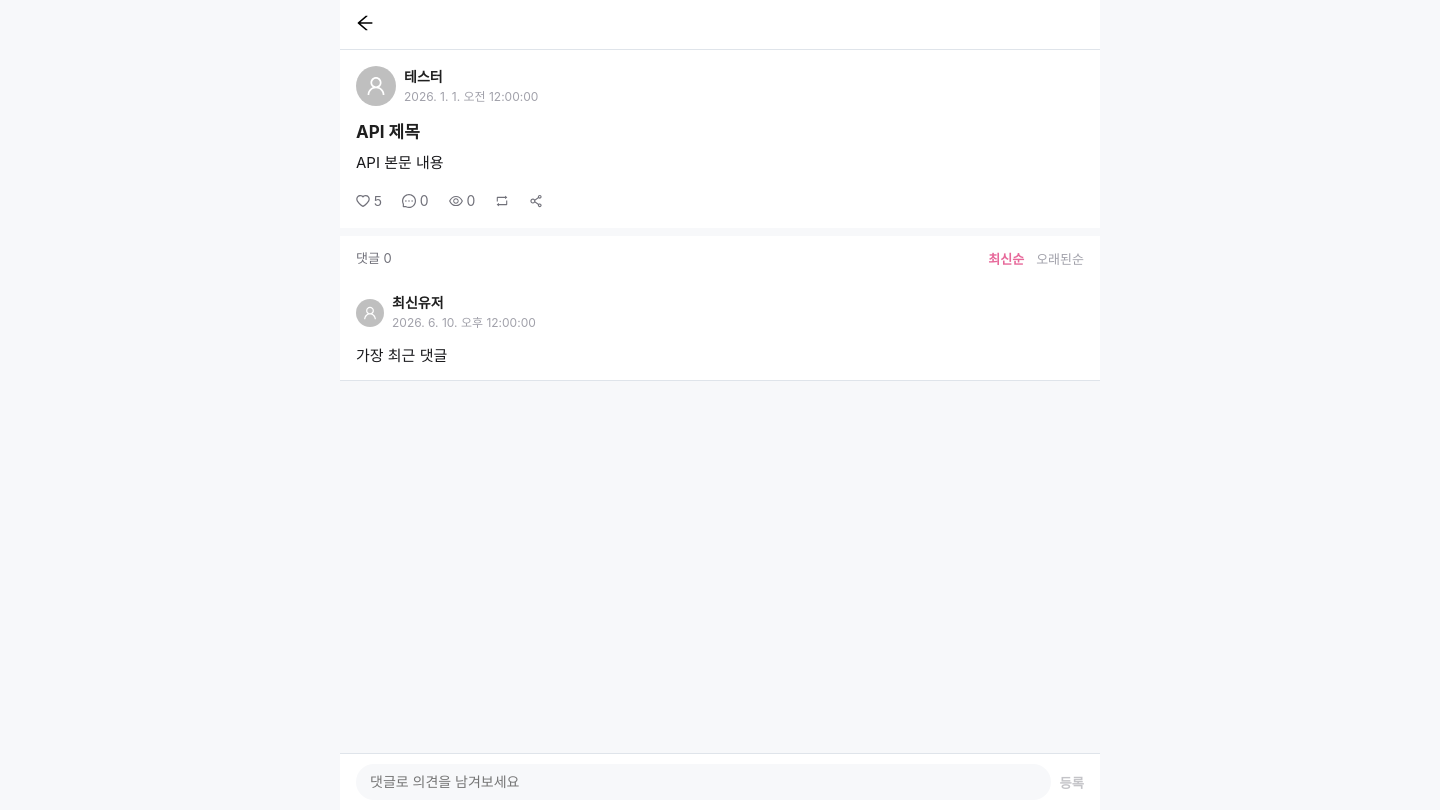
Test: CommunityDetail › 정렬을 오래된순으로 전환하면 해당 정렬로 재조회한다
expect the text "가장 최근 댓글" is shown: met, box [356, 346, 447, 365]
Click the button "오래된순": (1060, 258) [1036, 249, 1084, 268]
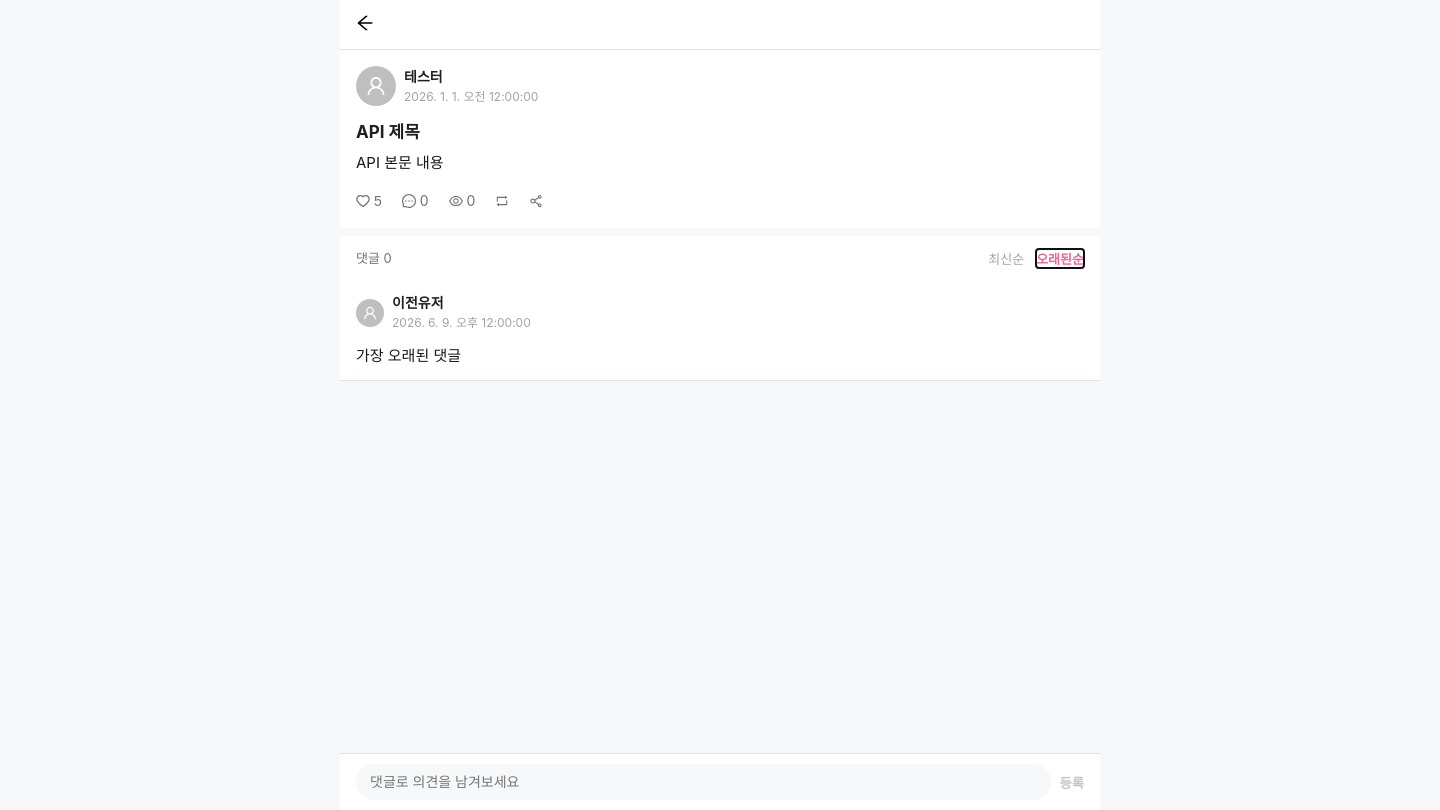
expect the text "가장 오래된 댓글" is shown: met, box [356, 346, 461, 365]
